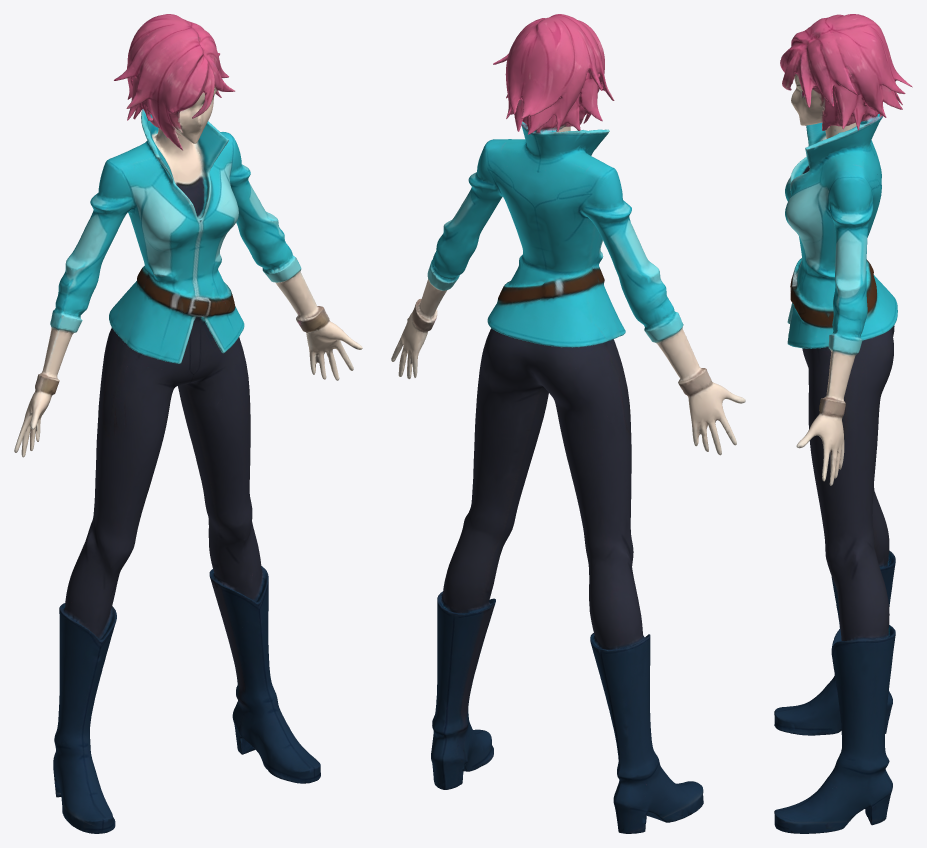
Rendered from Meshy_AI_Crimson_Sky_Ranger_0907075011_texture.fbx.
3 renders of one model, left to right at view 1: azimuth 30°, elevation 25°; view 2: azimuth 150°, elevation 25°; view 3: azimuth 270°, elevation 25°, orthographic. The views are drawn at different scales.
Visible parts, largest first — view 1: mesh_node; view 2: mesh_node; view 3: mesh_node.
Boxes of the visible parts, box(x1,y1,x2,y2) form: mesh_node: box(14, 14, 362, 833); mesh_node: box(391, 14, 745, 833); mesh_node: box(774, 14, 912, 833).
Bounding box in the file's own units: 88.3 × 190 × 31.39.
1 material, 1 textured.
